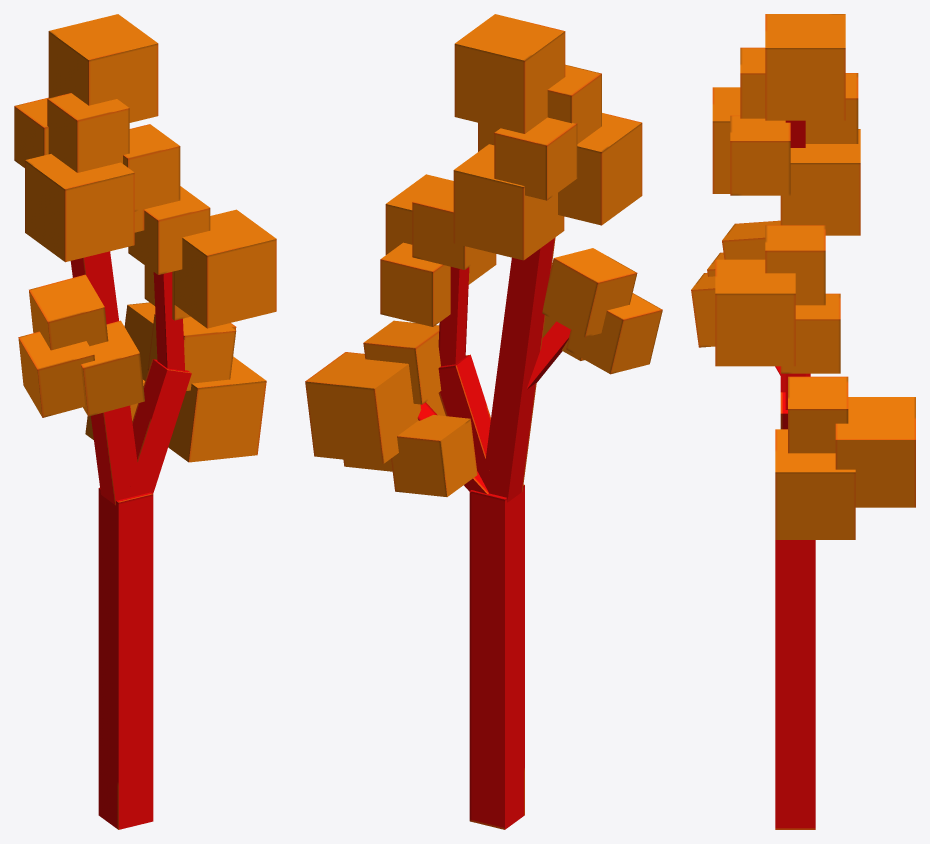
File: TREE.obj
3 views of the same model, side by side, from view 1: azimuth 30°, elevation 25°; view 2: azimuth 150°, elevation 25°; view 3: azimuth 270°, elevation 25° (orthographic).
Parts seen in each view (by area): view 1: cube; view 2: cube; view 3: cube.
Boxes of the visible parts, <box> form: cube: <box>14,14,276,829</box>; cube: <box>305,14,662,829</box>; cube: <box>691,14,915,829</box>.
Bounding box in the file's own units: 3.7 × 10.75 × 2.8.
